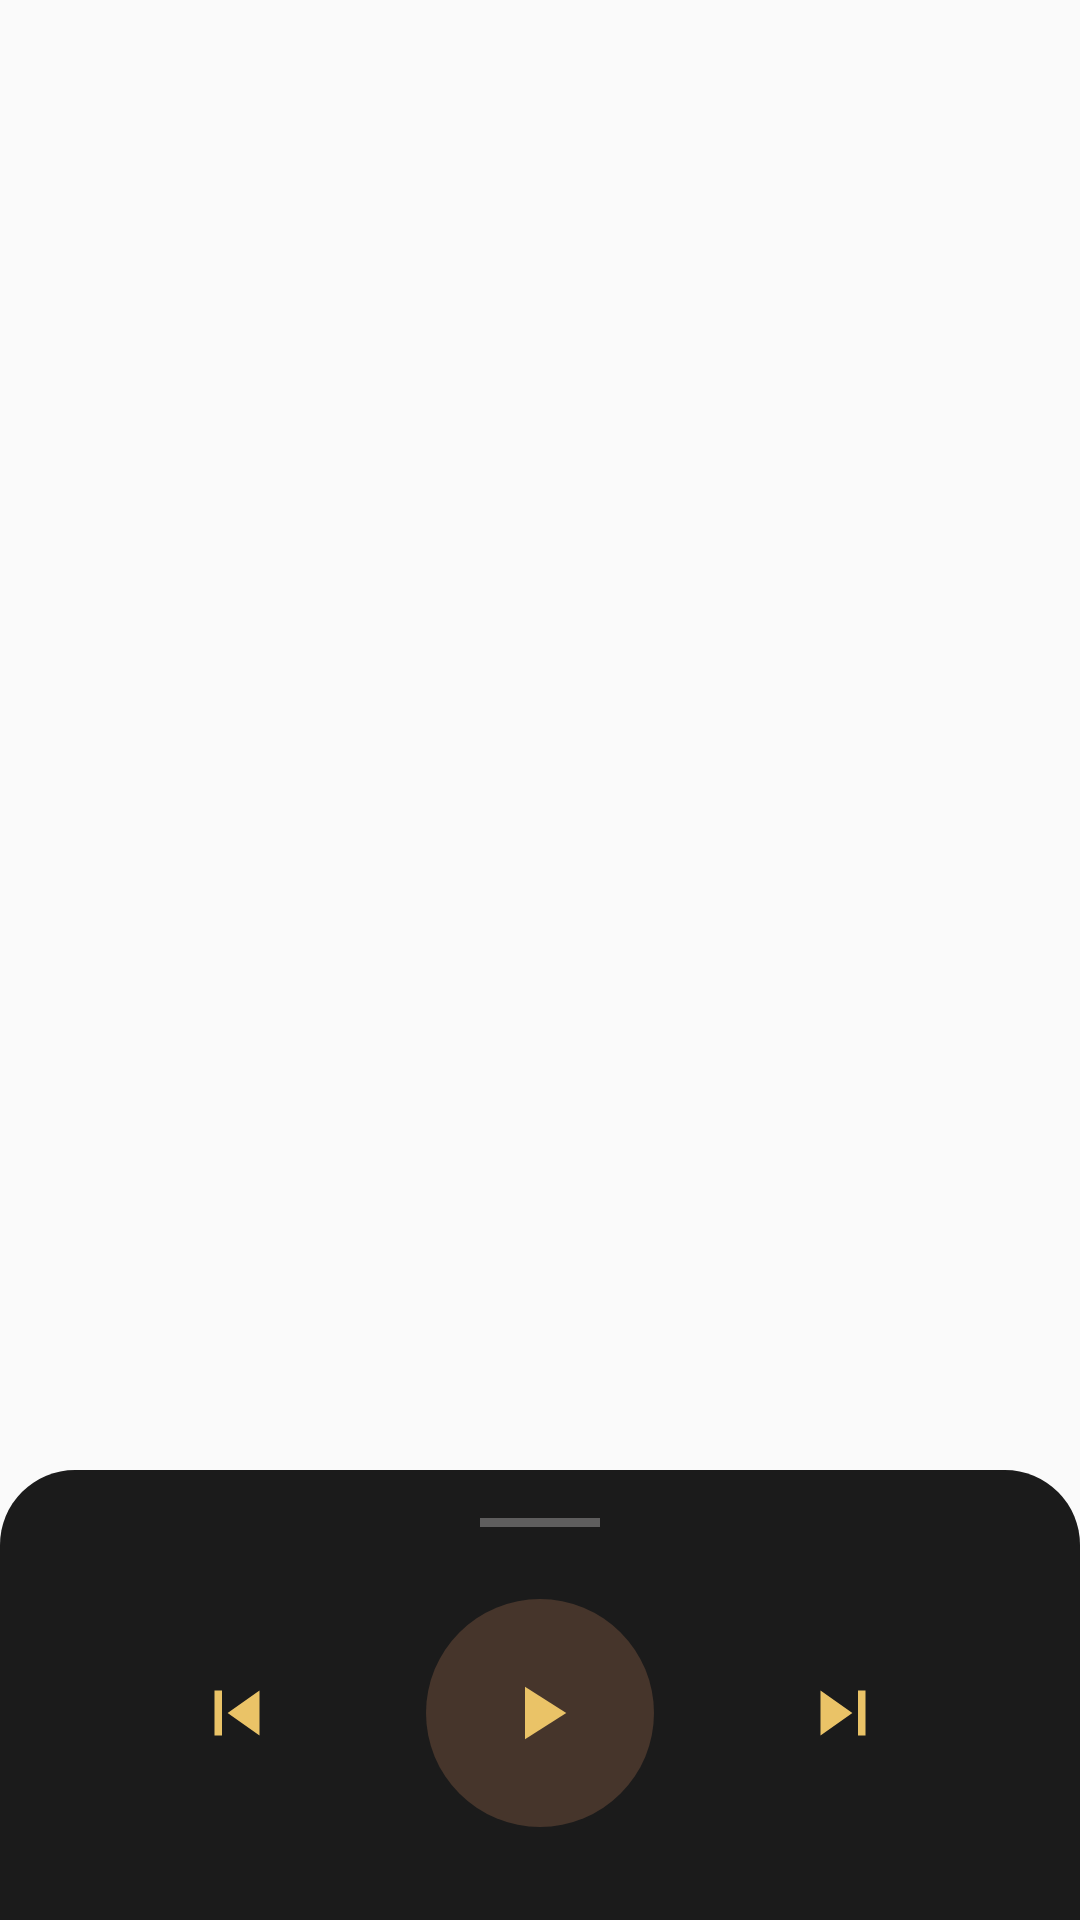

Icon click points for this 1080px x 1920px phone screenshot, format (x=x, y=y):
next: (x=843, y=1713)
play: (x=540, y=1713)
previous: (x=237, y=1713)
